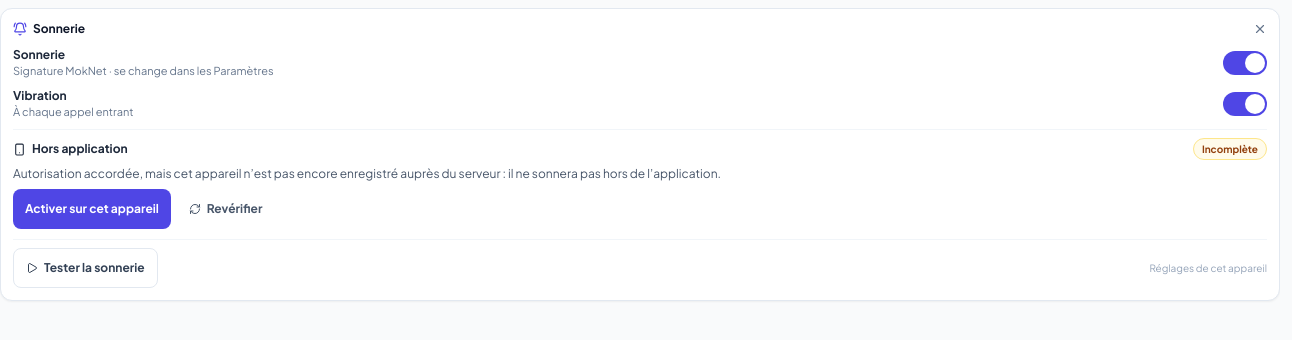
Test case: RingingPanel (mission SN) › hors application : état réel, « Activer sur cet appareil » relit l’état après l’action, un échec est affiché tel quel
expect the text "Incomplète" is shown: met, box left=1193, top=138, right=1267, bottom=160
expect the text "n’est pas encore enregistré" is shown: met, box left=13, top=166, right=721, bottom=181
Click the button "Activer sur cet appareil".
click(92, 209)  # box left=13, top=189, right=171, bottom=229
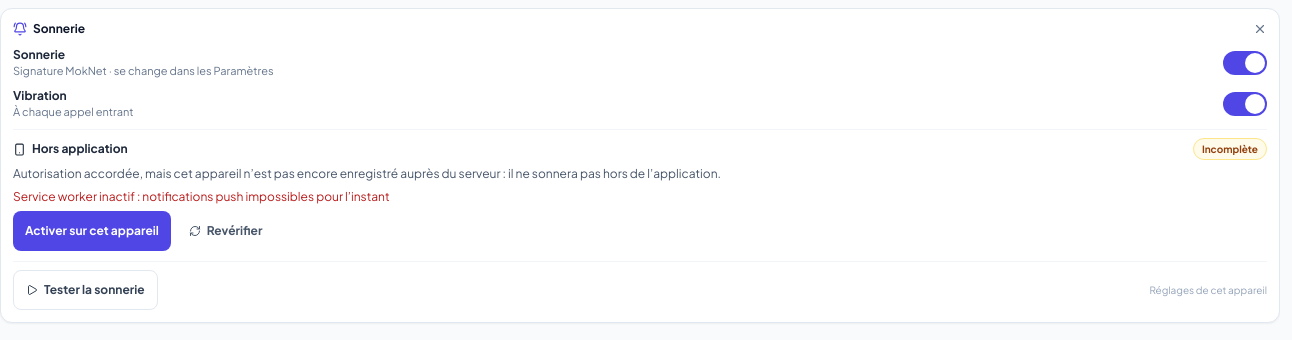
expect the text "Service worker inactif" is shown: met, box left=13, top=189, right=390, bottom=204
